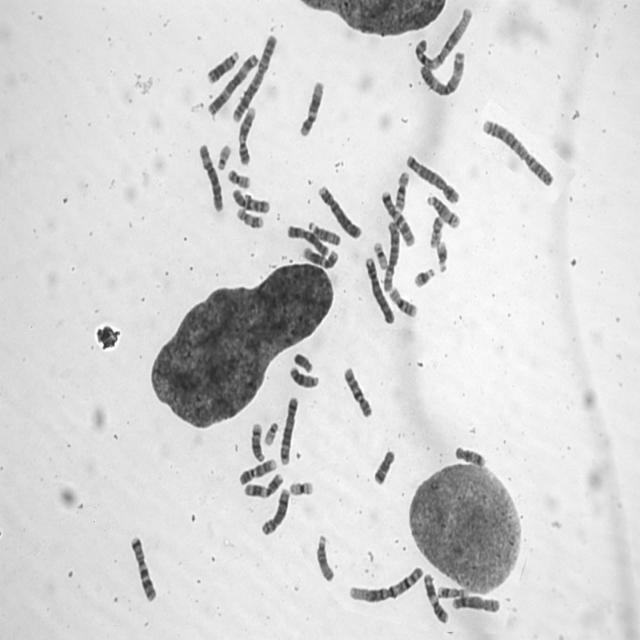A1: (411, 2, 474, 70), (345, 562, 424, 604)
A2: (478, 114, 556, 188), (228, 29, 278, 124)
A3: (205, 49, 260, 117), (416, 47, 466, 98)
B4: (315, 180, 363, 240), (361, 252, 396, 326)
B5: (403, 150, 461, 205), (277, 392, 299, 466)
C10: (340, 362, 373, 420), (229, 184, 271, 214)
C11: (421, 570, 449, 624), (242, 469, 284, 500)
C12: (296, 76, 325, 138), (300, 242, 340, 270)
C6: (196, 139, 224, 213), (380, 217, 400, 293)
C7: (378, 187, 416, 247), (126, 531, 157, 603)
C8: (258, 484, 290, 537), (449, 591, 501, 614)
C9: (235, 102, 257, 166), (235, 454, 278, 486)
D13: (204, 46, 240, 85), (286, 363, 320, 389)
D14: (424, 192, 461, 230), (248, 419, 266, 463)
D15: (313, 530, 335, 583), (306, 217, 342, 247)
E16: (387, 283, 419, 319), (391, 168, 410, 212)
E17: (233, 204, 264, 230), (435, 582, 468, 600)
E18: (371, 446, 396, 486), (452, 442, 486, 469)
F19: (370, 238, 390, 270), (286, 477, 314, 498)
F20: (224, 165, 251, 189), (427, 212, 444, 248)
G21: (411, 264, 436, 289), (434, 236, 449, 274)
G22: (214, 140, 232, 172), (261, 417, 279, 447)
X: (284, 220, 330, 258)
Y: (291, 348, 313, 374)
